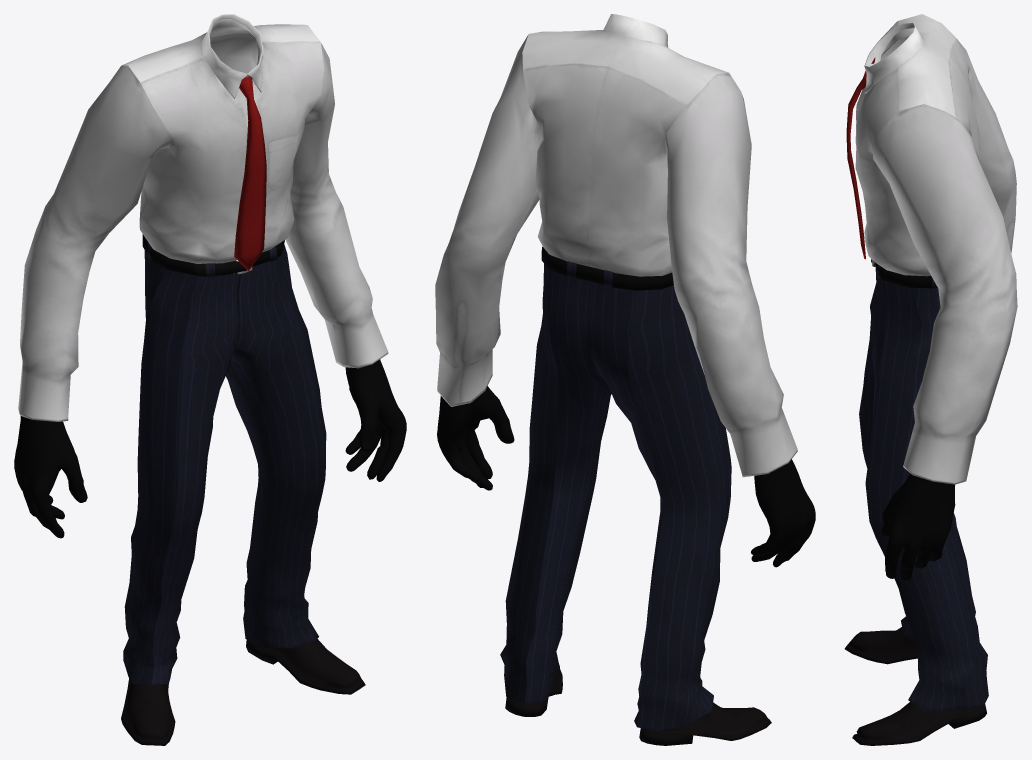
Rendered from quentin_body.glb.
3 renders of one model, left to right at view 1: azimuth 30°, elevation 25°; view 2: azimuth 150°, elevation 25°; view 3: azimuth 270°, elevation 25°, orthographic. The views are drawn at different scales.
Visible parts, largest first — view 1: Object_2, Object_3, Object_4; view 2: Object_2, Object_3; view 3: Object_2, Object_3, Object_4.
Part boxes in pixels (bbox=[...]): Object_2: bbox=[18, 14, 388, 745]; Object_3: bbox=[14, 359, 406, 538]; Object_4: bbox=[234, 76, 266, 270]; Object_2: bbox=[435, 14, 797, 745]; Object_3: bbox=[437, 386, 815, 567]; Object_2: bbox=[844, 14, 1017, 745]; Object_3: bbox=[881, 474, 955, 580]; Object_4: bbox=[846, 57, 875, 259].
Size of the model in its own units: 0.6812 by 1.23 by 0.2887.
3 materials, 1 textured.
